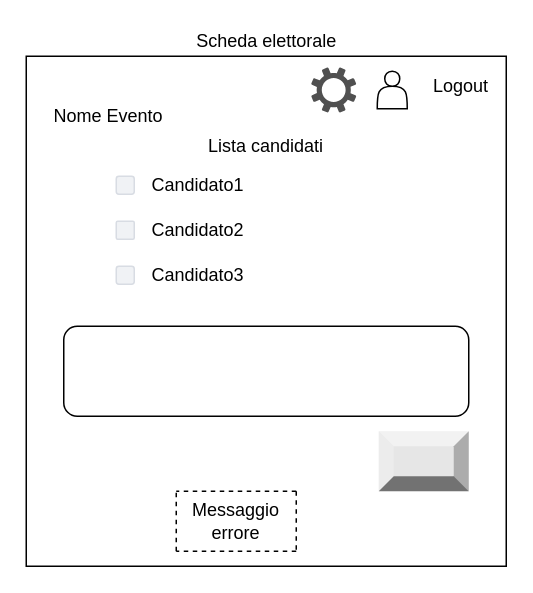
The diagram is 533 pixels wide and 593 high, and some of its shapes have lost their labels. The box of each missing label's shape, as (x1, y1, x2, y2) in pixels:
Invia: (378, 430, 468, 490)
Regolamento: (62, 325, 469, 416)
